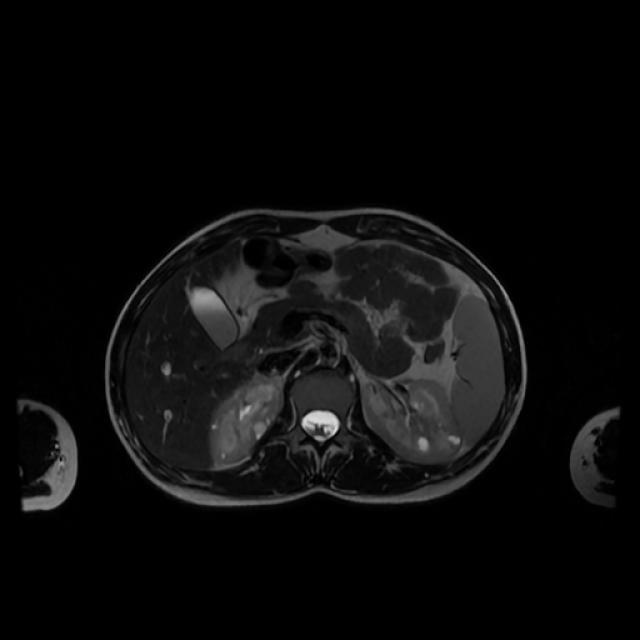sag: (209, 372, 285, 467)
sol: (365, 380, 462, 461)
